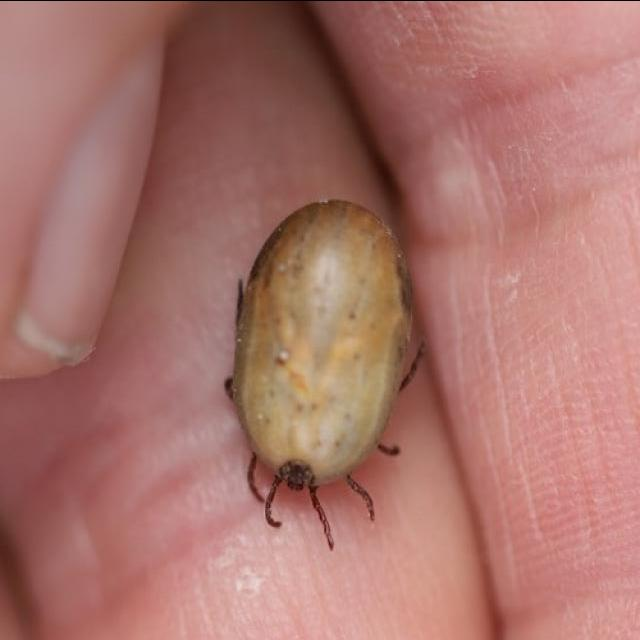Dermacentor Reticulatus-F-Fed: (224, 200, 425, 551)
